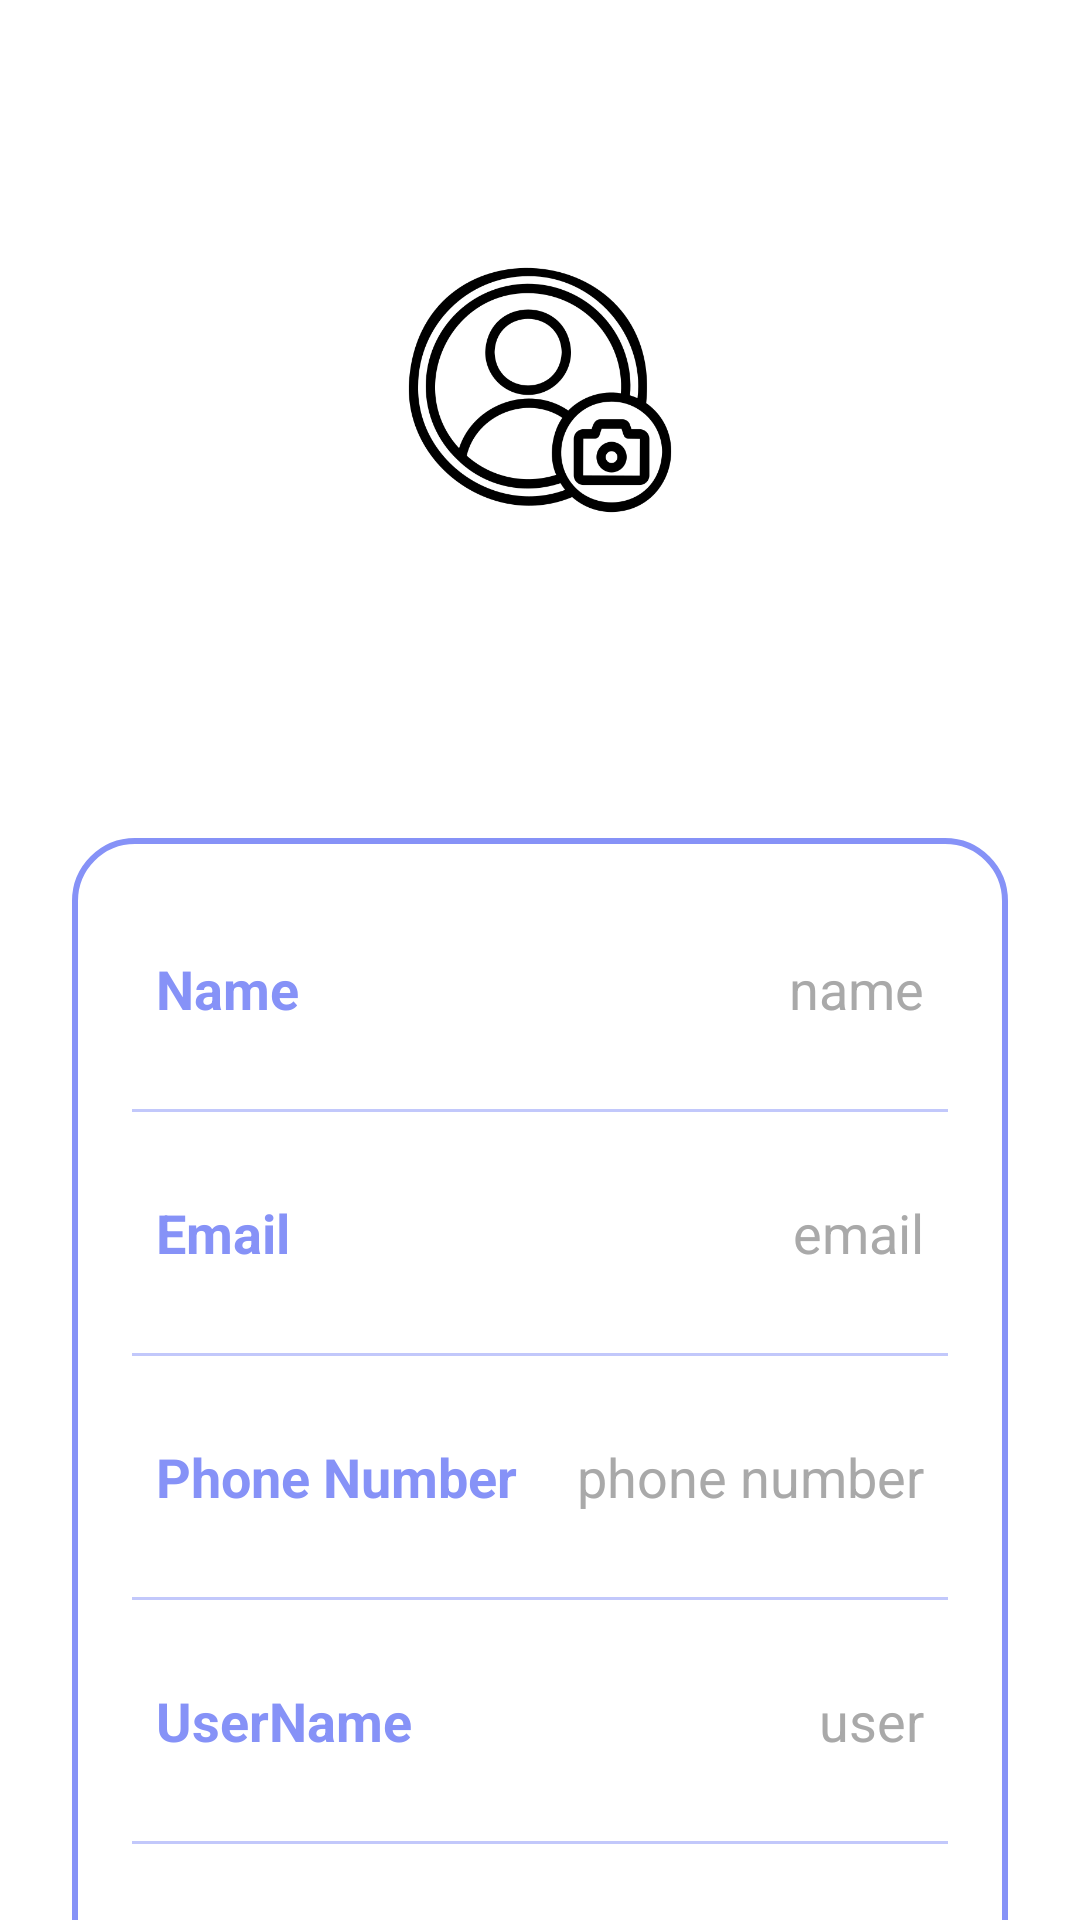

Icons on this 1080w x 1920h Android screen, each with its box as (x1, y1, x2, y2):
profile: (409, 267, 671, 513)
